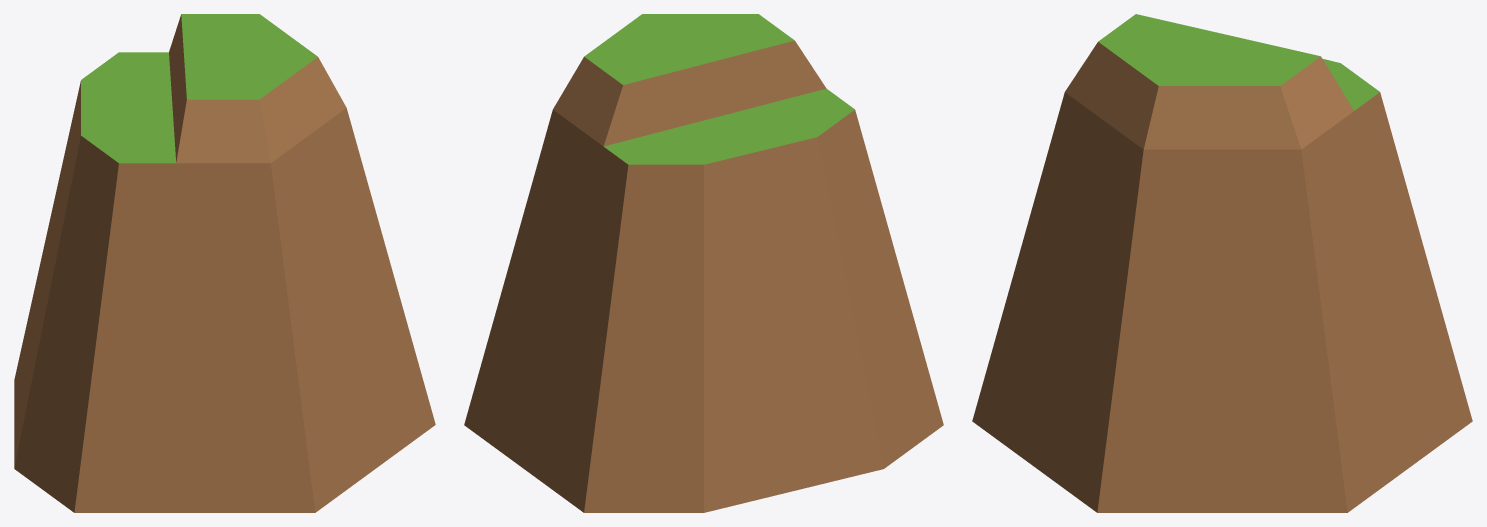
File: rock_tallE.glb
The picture shows the model from 3 angles, left to right: view 1: azimuth 30°, elevation 25°; view 2: azimuth 150°, elevation 25°; view 3: azimuth 270°, elevation 25°; orthographic projection. The views are drawn at different scales.
Parts seen in each view (by area): view 1: rock_tallE; view 2: rock_tallE; view 3: rock_tallE.
Boxes of the visible parts, x1,y1,x2,y2 form: rock_tallE: [14, 14, 435, 512]; rock_tallE: [464, 14, 943, 512]; rock_tallE: [972, 14, 1472, 512].
Bounding box in the file's own units: 0.4562 × 0.4438 × 0.5268.
